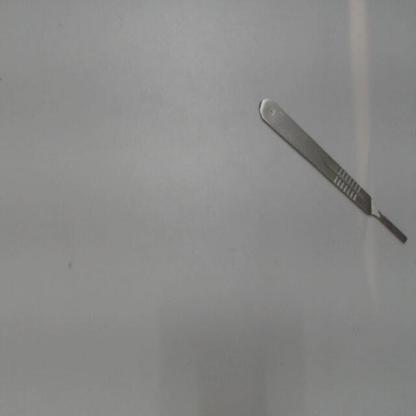No.4 BP Handle: (252, 79, 414, 256)
